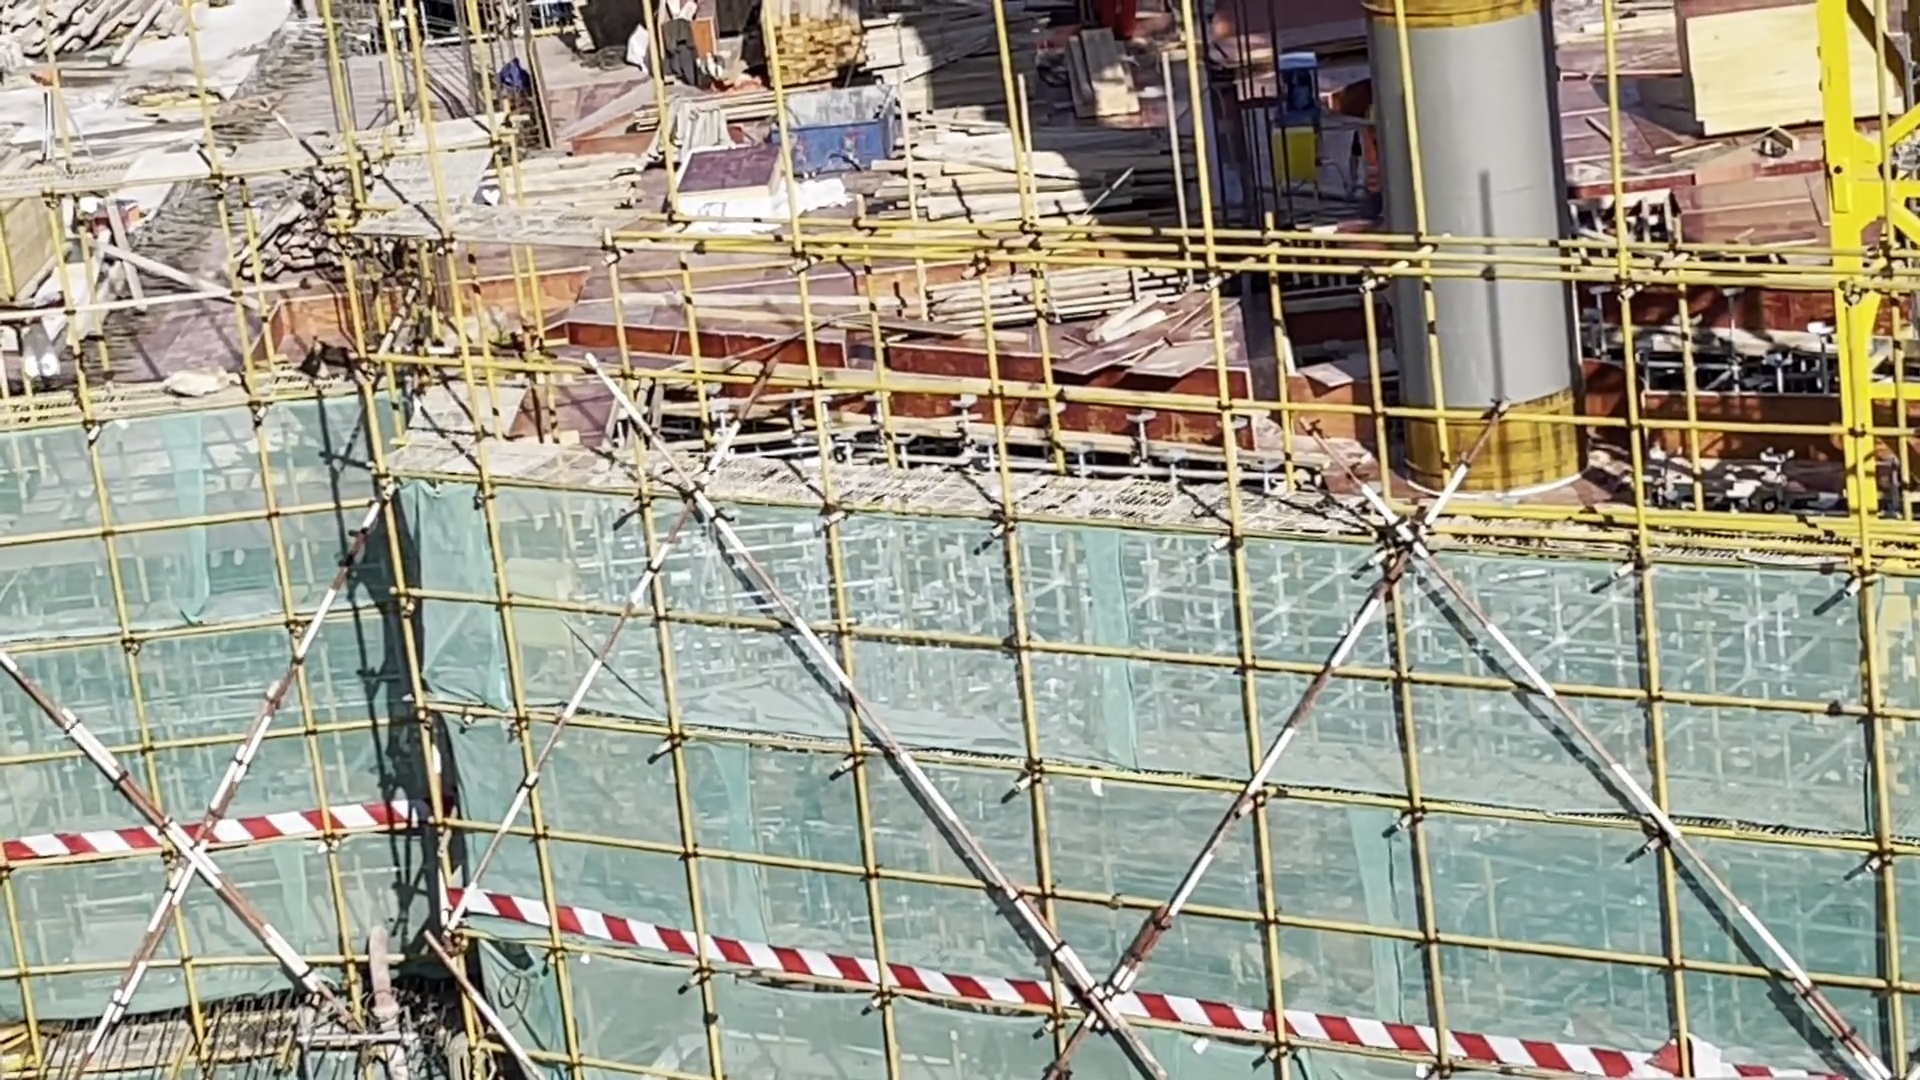board: (1088, 305, 1222, 392)
hopper: (1633, 335, 1847, 464), (775, 90, 910, 174)
wood: (855, 112, 1164, 243), (866, 270, 1149, 322)
